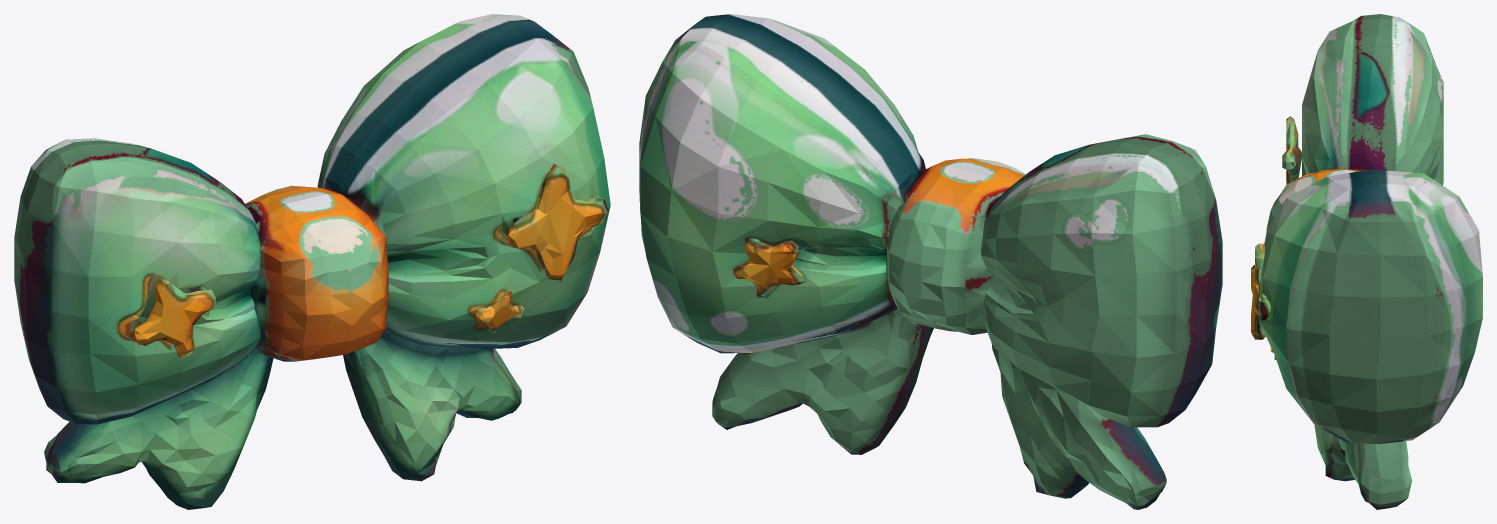
Rendered from lacos_03.glb.
3 views of the same model, side by side, from view 1: azimuth 30°, elevation 25°; view 2: azimuth 150°, elevation 25°; view 3: azimuth 270°, elevation 25° (orthographic). The views are drawn at different scales.
Parts seen in each view (by area): view 1: tripo_part_14_item_03, tripo_part_7_item_03, tripo_part_25_item_03, tripo_part_12_item_03, tripo_part_5_item_03, tripo_part_28_item_03, tripo_part_26_item_03, tripo_part_27_item_03; view 2: tripo_part_14_item_03, tripo_part_7_item_03, tripo_part_5_item_03, tripo_part_25_item_03, tripo_part_12_item_03, tripo_part_10_item_03; view 3: tripo_part_14_item_03, tripo_part_7_item_03, tripo_part_5_item_03, tripo_part_28_item_03, tripo_part_25_item_03, tripo_part_26_item_03, tripo_part_11_item_03.
Boxes of the visible parts, <box> form: tripo_part_14_item_03: <box>317,14,610,348</box>; tripo_part_7_item_03: <box>14,138,260,424</box>; tripo_part_25_item_03: <box>245,185,388,361</box>; tripo_part_12_item_03: <box>44,347,273,509</box>; tripo_part_5_item_03: <box>343,330,521,481</box>; tripo_part_28_item_03: <box>506,165,608,281</box>; tripo_part_26_item_03: <box>130,279,215,358</box>; tripo_part_27_item_03: <box>473,289,524,333</box>; tripo_part_14_item_03: <box>639,14,925,353</box>; tripo_part_7_item_03: <box>981,134,1222,427</box>; tripo_part_5_item_03: <box>712,308,933,454</box>; tripo_part_25_item_03: <box>886,158,1025,334</box>; tripo_part_12_item_03: <box>991,343,1166,509</box>; tripo_part_10_item_03: <box>733,238,806,297</box>; tripo_part_14_item_03: <box>1259,169,1482,443</box>; tripo_part_7_item_03: <box>1302,14,1443,185</box>; tripo_part_5_item_03: <box>1314,424,1412,509</box>; tripo_part_28_item_03: <box>1251,243,1270,339</box>; tripo_part_25_item_03: <box>1266,168,1366,230</box>; tripo_part_26_item_03: <box>1282,116,1301,184</box>; tripo_part_11_item_03: <box>1255,244,1265,334</box>.
Bounding box in the file's own units: 0.2681 × 0.1898 × 0.1155.
17 materials, 17 textured.
